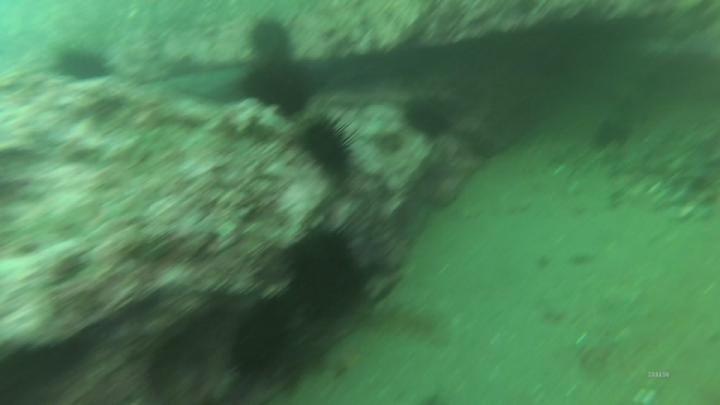echinus: (280, 219, 371, 325), (223, 299, 299, 386), (240, 55, 317, 119), (292, 111, 360, 183), (400, 92, 457, 142), (51, 43, 114, 86), (246, 16, 296, 62)
